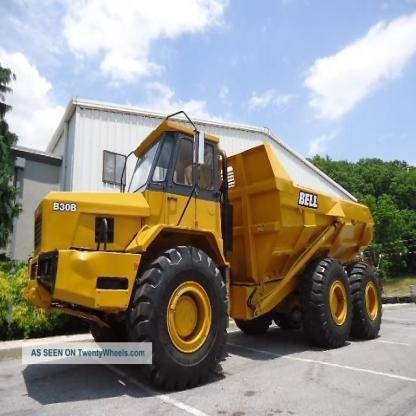dump_truck: (28, 111, 388, 392)
